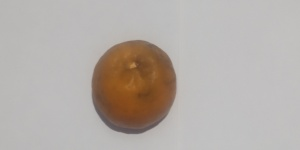BAD: (91, 37, 177, 131)
